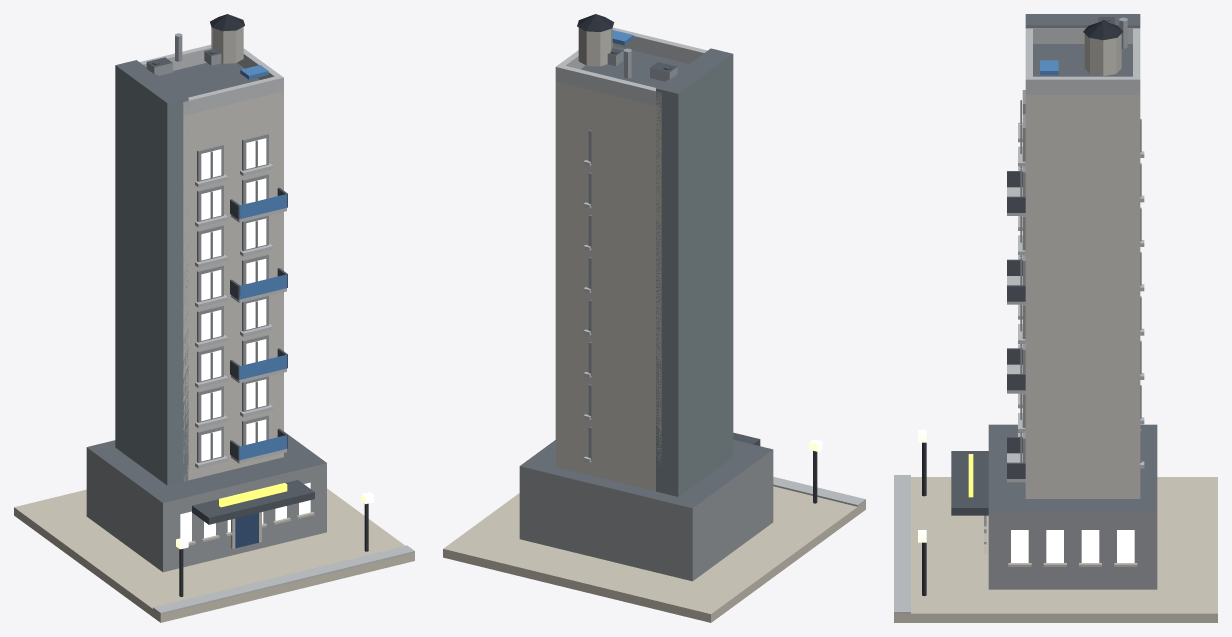
3 renders of one model, left to right at view 1: azimuth 30°, elevation 25°; view 2: azimuth 150°, elevation 25°; view 3: azimuth 270°, elevation 25°, orthographic. The views are drawn at different scales.
Visible parts, largest first — view 1: b07_v2; view 2: b07_v2; view 3: b07_v2.
Part boxes in pixels (box(x1,y1,x2,y2)): b07_v2: box(14, 14, 414, 622); b07_v2: box(443, 14, 865, 622); b07_v2: box(894, 14, 1217, 622).
Size of the model in its own units: 0.96 by 1.8 by 0.96.
